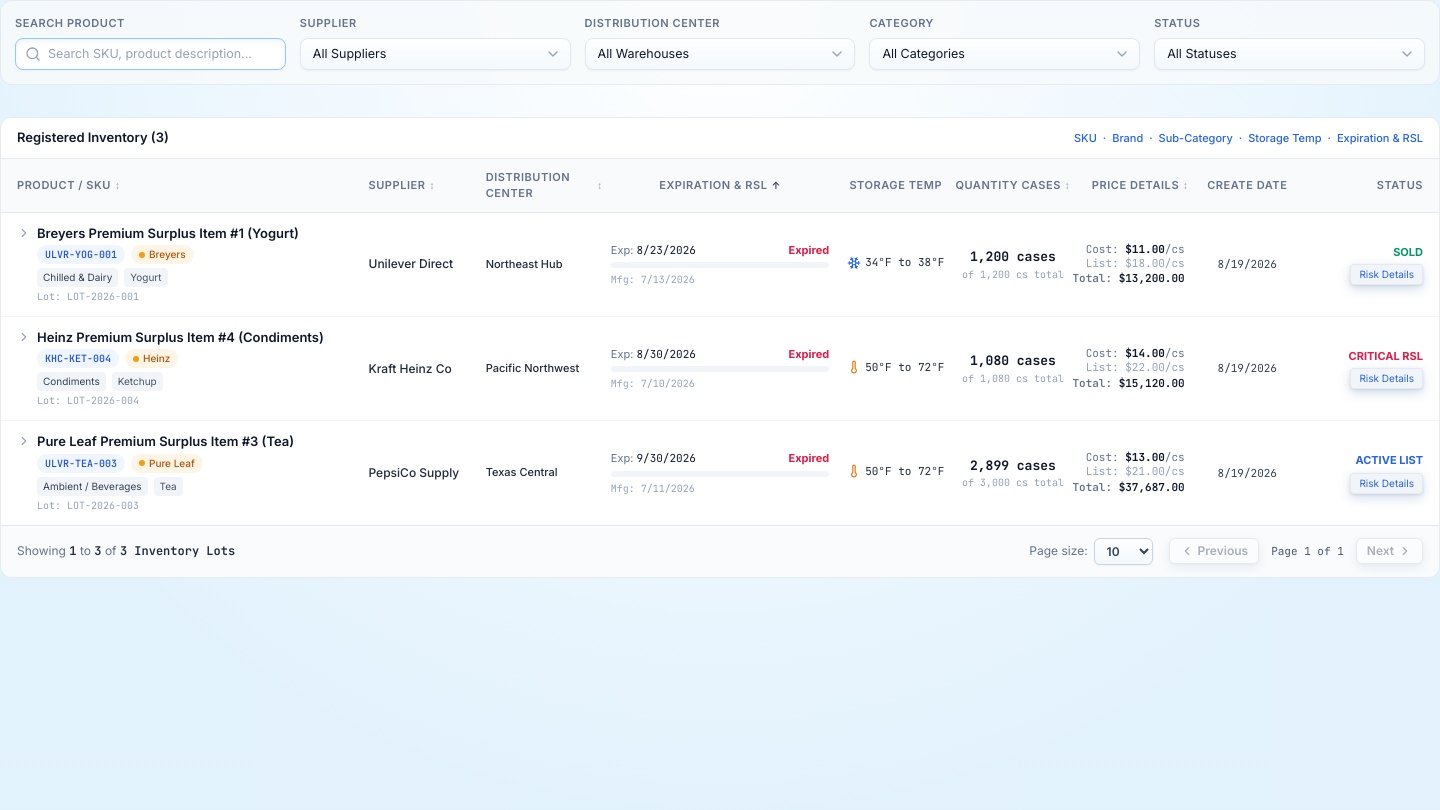
Issue #0121: Slice 3 - Inventory Pipeline Modern Grid & Progressive Inspection Drawer › 3. Progressive Row Inspection Drawer & Batch Operations › clicking a lot row expands the in-situ inspection drawer revealing cold-chain, FEFO, valuation, and batch operations without navigating away
The width and height of the screenshot is (1440, 810).
Expected: the text "Cold-Chain Telemetry" is not shown
Expected: the text "FEFO Lifecycle Matrix" is not shown
Click the text "Breyers Premium Surplus Item #1 (Yogurt)" at (720, 264), box [1,213,1439,316]
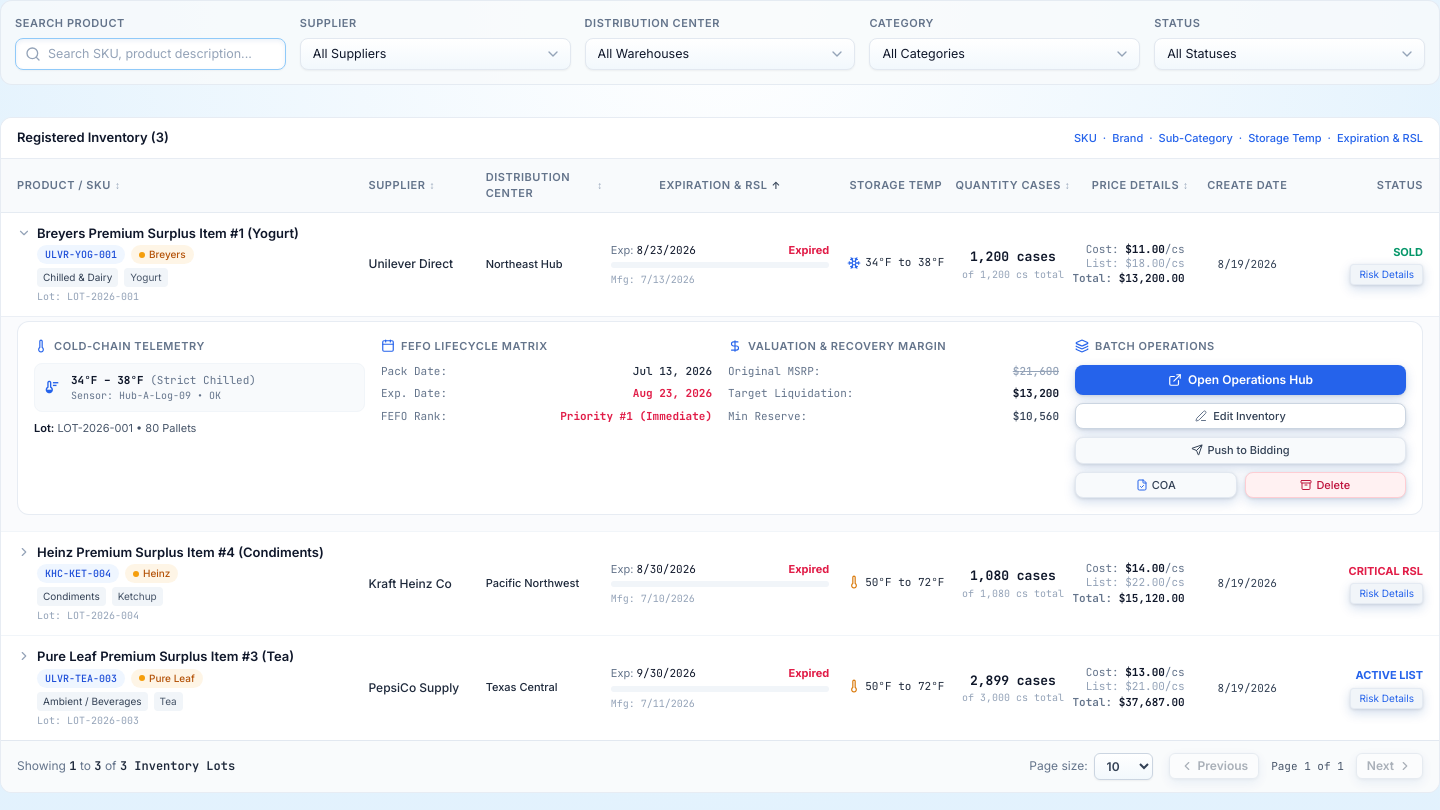
Expected: the text "Cold-Chain Telemetry" is shown, [54,338,205,354]
Expected: the text "FEFO Lifecycle Matrix" is shown, [401,338,548,354]
Expected: the text "Valuation & Recovery Margin" is shown, [748,338,946,354]
Re-clicking collapses the drawer
Click the text "Breyers Premium Surplus Item #1 (Yogurt)" at (720, 372), box [1,213,1439,531]
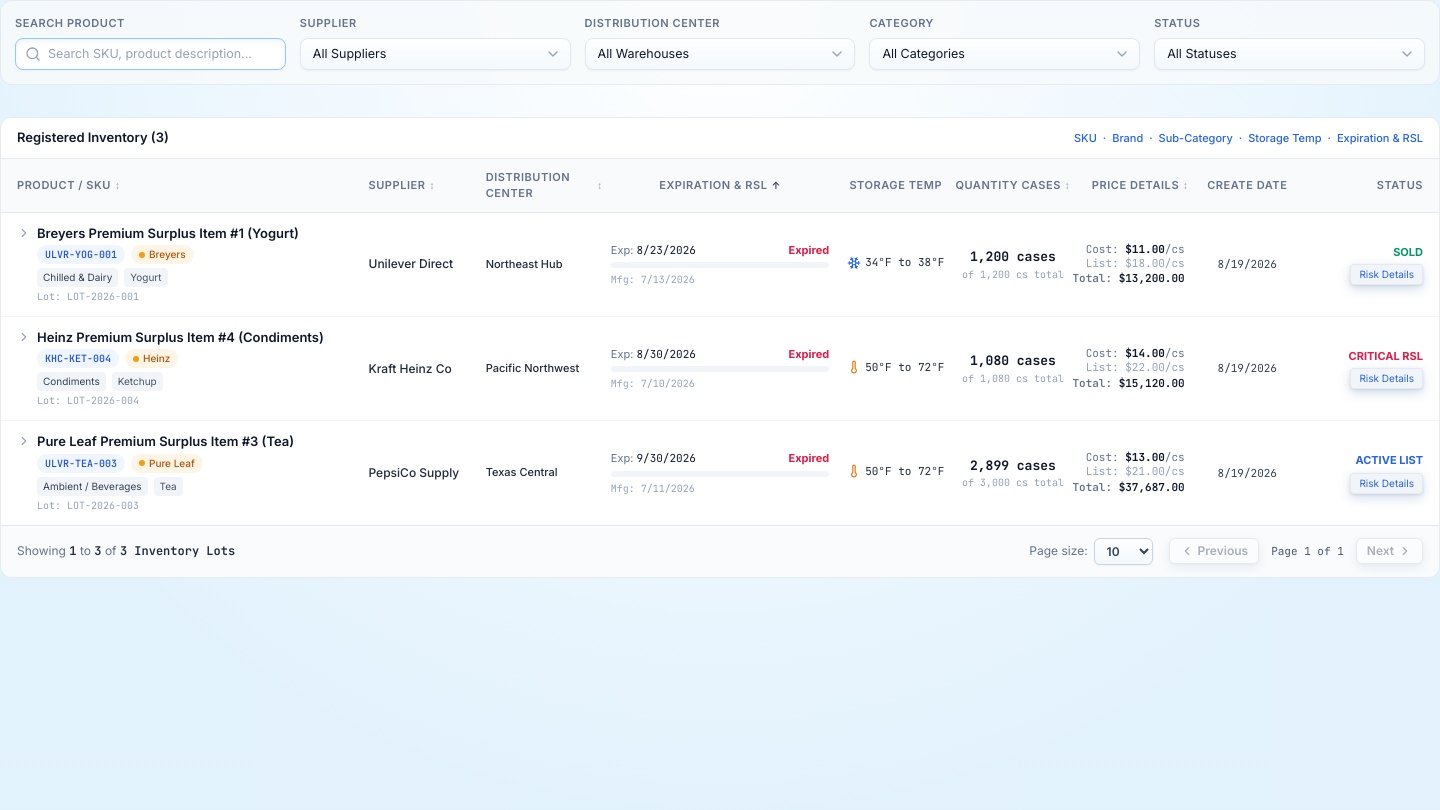
Expected: the text "Cold-Chain Telemetry" is gone
